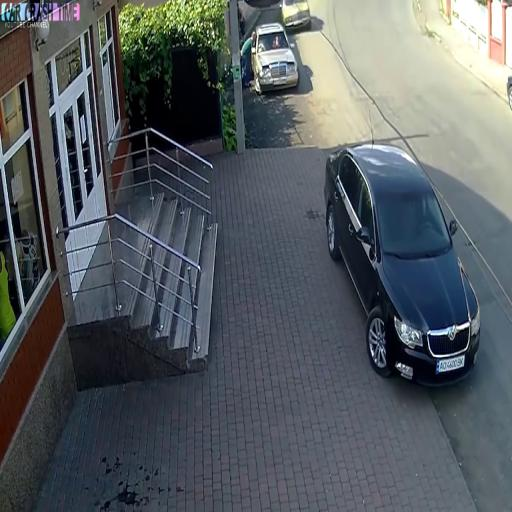小汽车: (324, 143, 480, 392), (257, 26, 301, 93), (281, 0, 311, 31)
